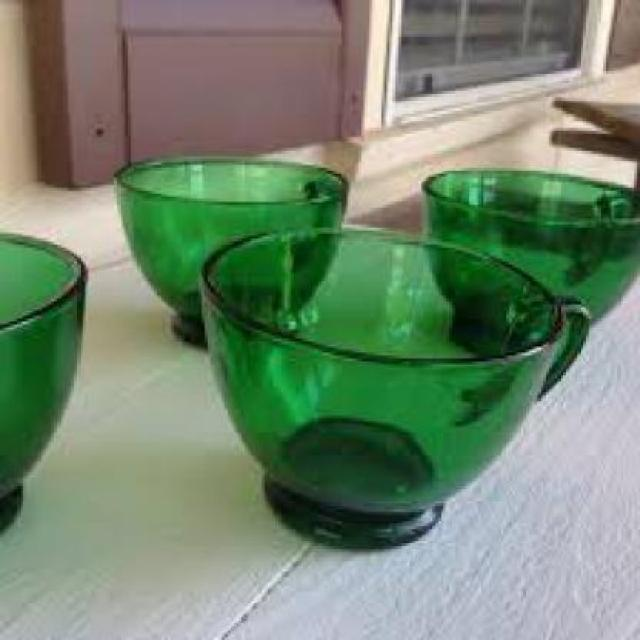GLASS: (197, 225, 586, 549), (111, 157, 344, 352), (418, 168, 638, 355), (0, 231, 86, 534)
